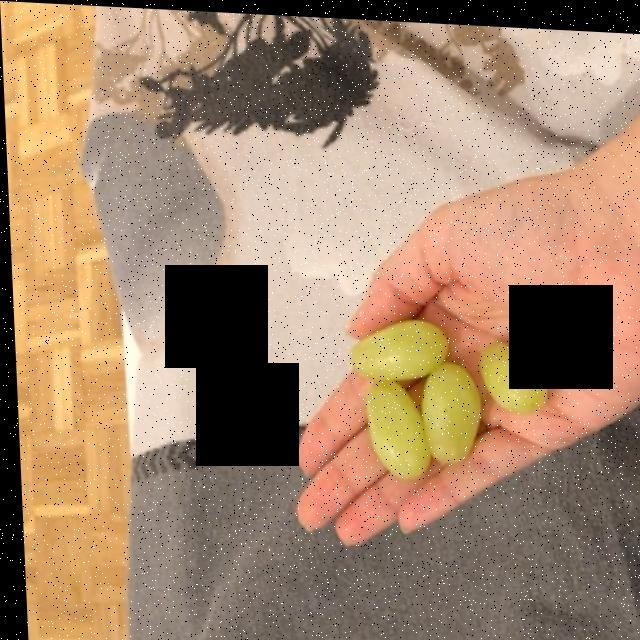grapes: (350, 320, 534, 473)
